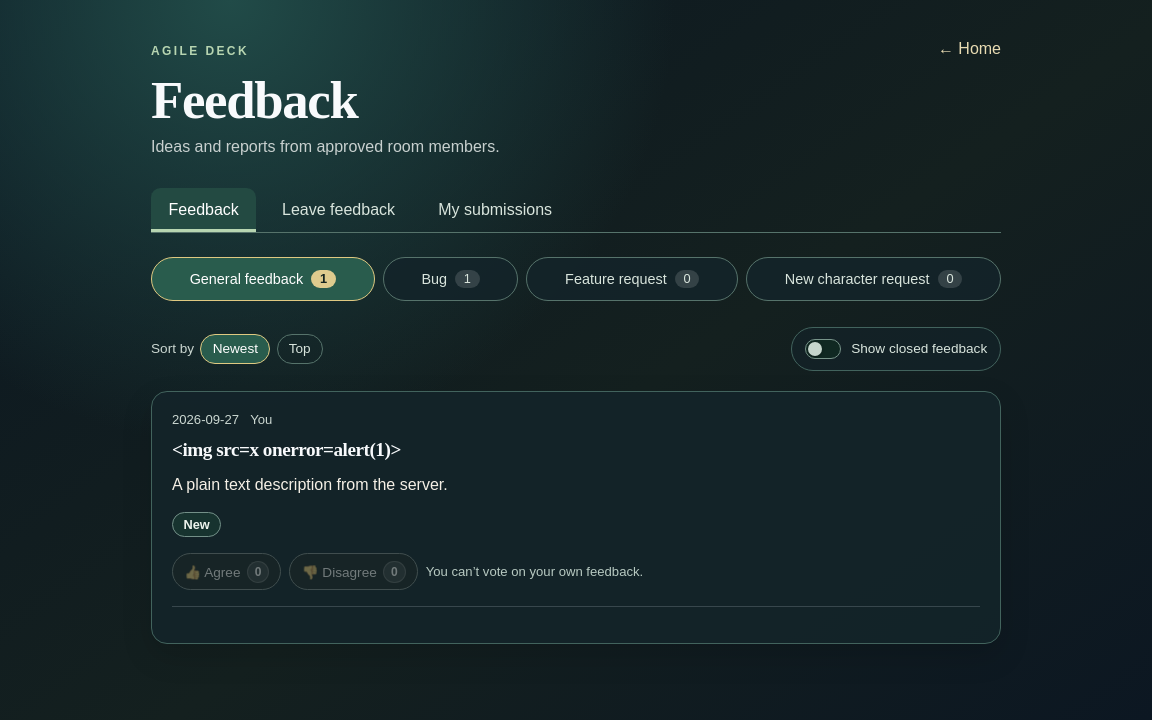
FeedbackComponent › shows a counted tab for each type and filters the visible entries
Expected: the tab "General feedback 1" is shown, [151,257,375,301]
Click the tab "Bug 1" at (451,279), box [383,257,518,301]
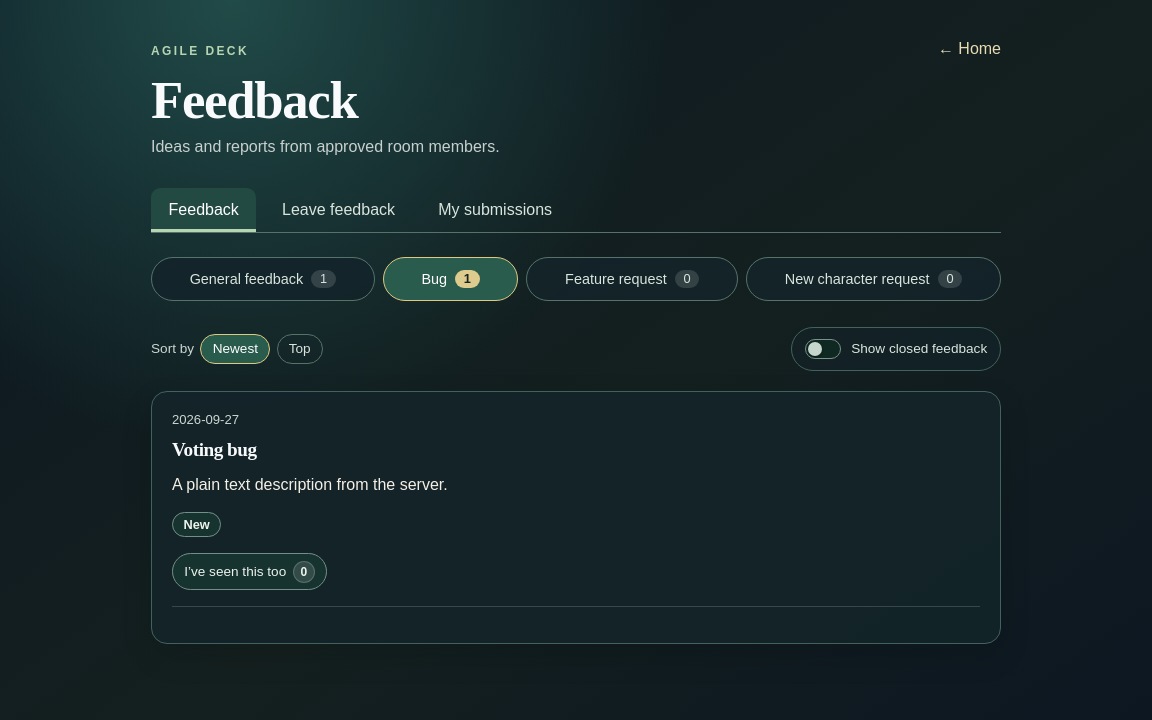
Expected: the text "Voting bug" is shown, [172,439,257,460]
